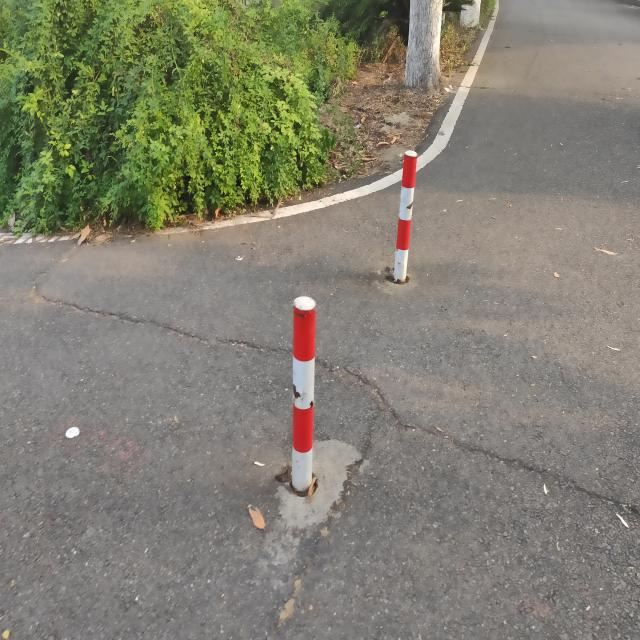warning_column: (284, 293, 323, 494), (391, 147, 419, 285)
